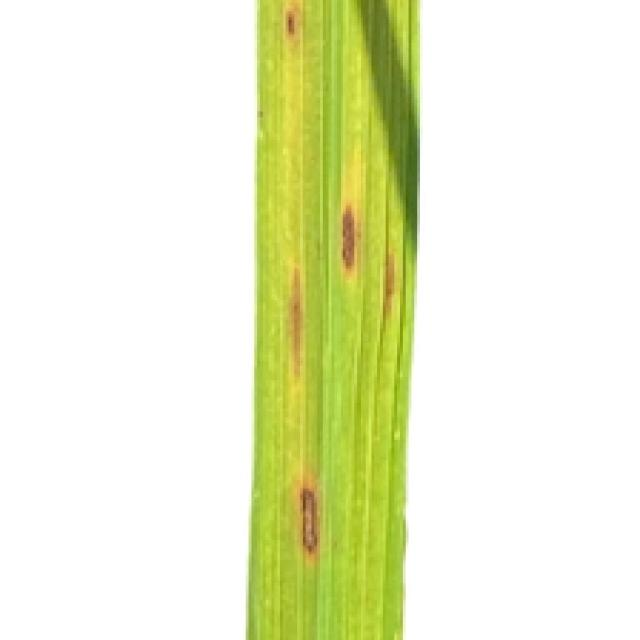Rice___Rice_Blast: (245, 0, 421, 637)
